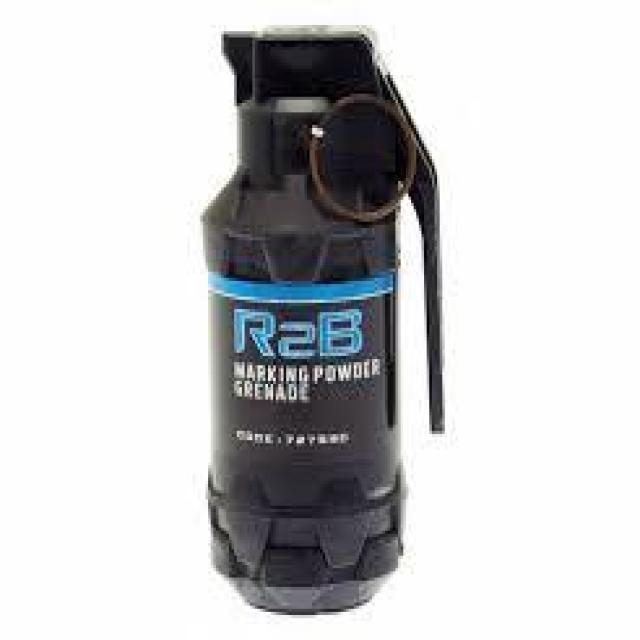grenade: (198, 31, 446, 615)
